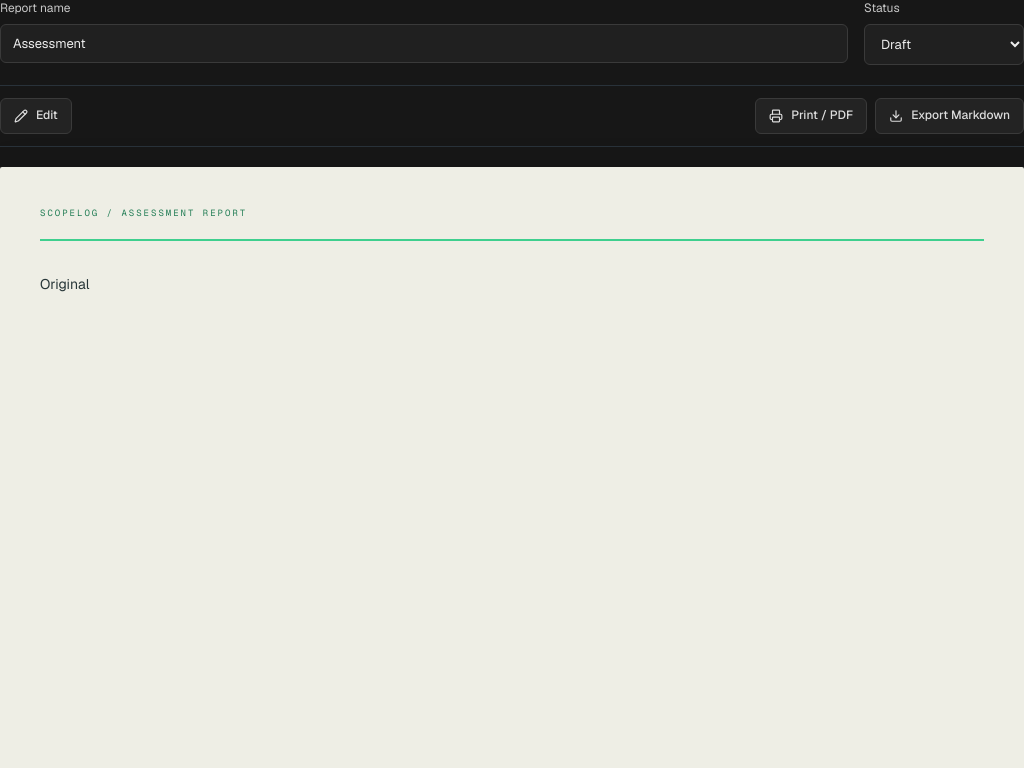
Test: site controls audit › keeps report content after a failed save
The width and height of the screenshot is (1024, 768).
Step 1. Click the button "Edit" → (36, 116), box [0,98,72,134]
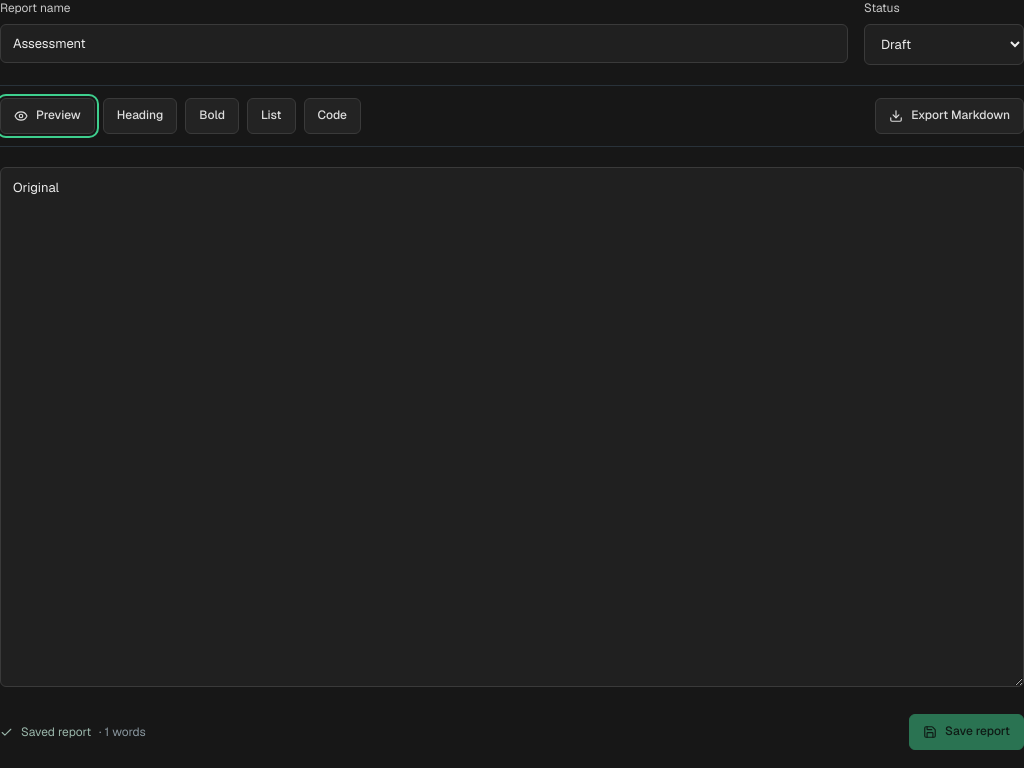
Step 2. Type " revised" into the text box named "Report content" → (512, 427), box [0,167,1023,687]
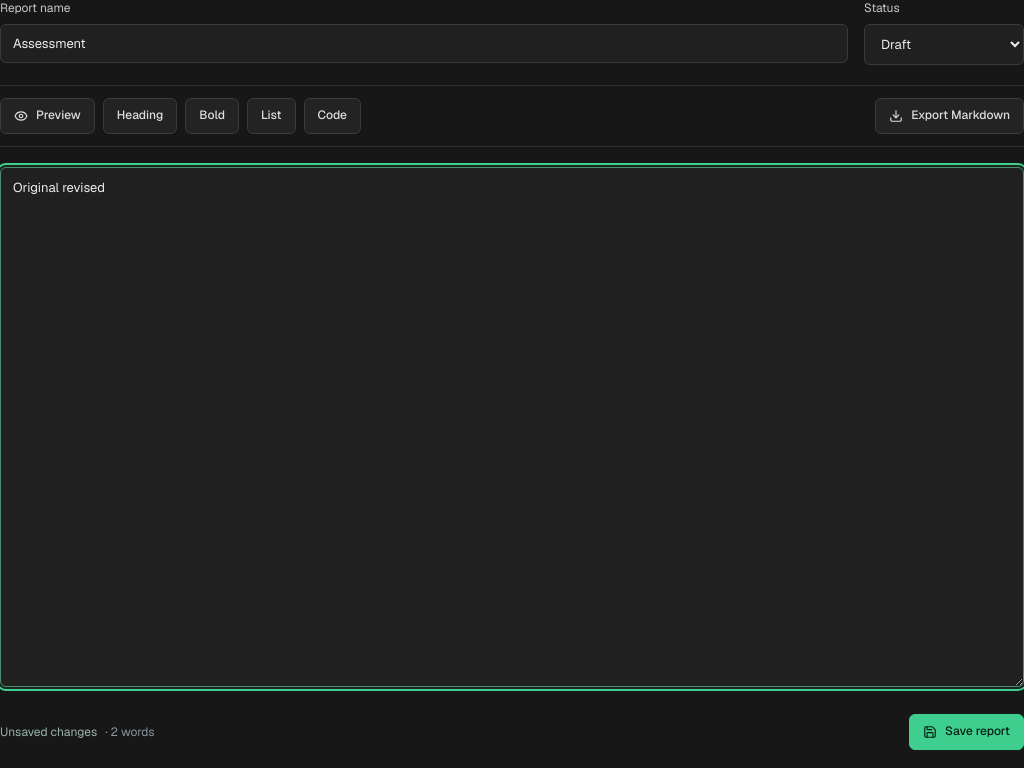
Step 3. Click the button "Save report" → (967, 732), box [909,714,1023,750]
(page scrolled)
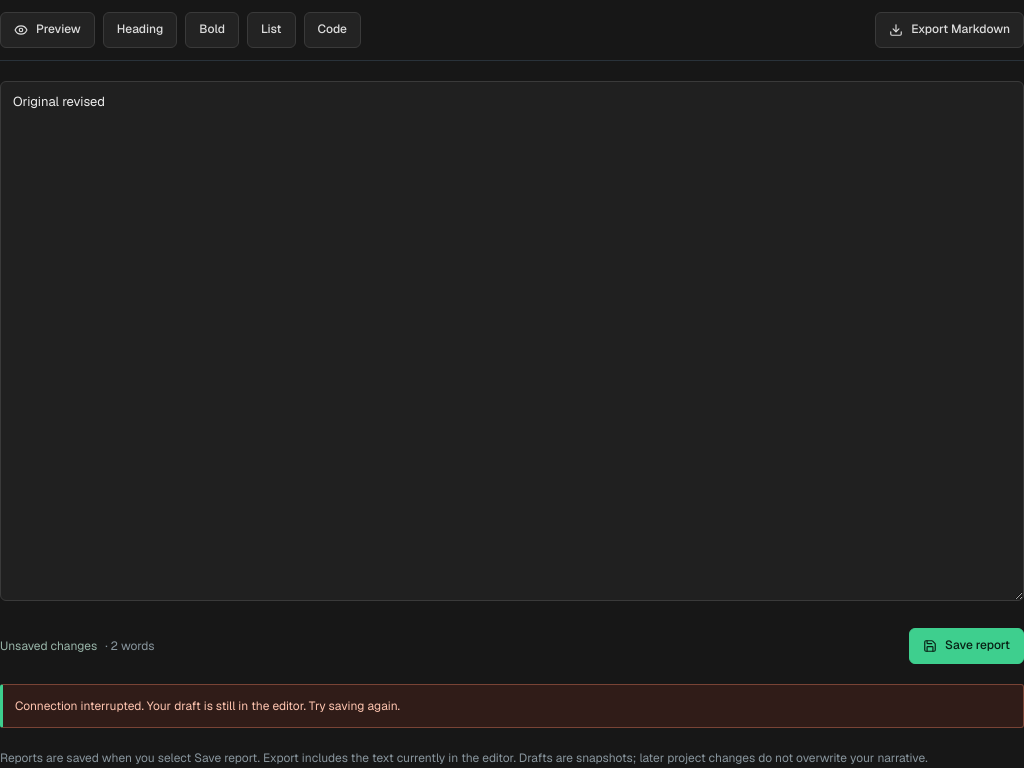
expect the message "Connection interrupted. Your draft is still in the editor. Try saving again." is shown: met, box [0,684,1023,728]
